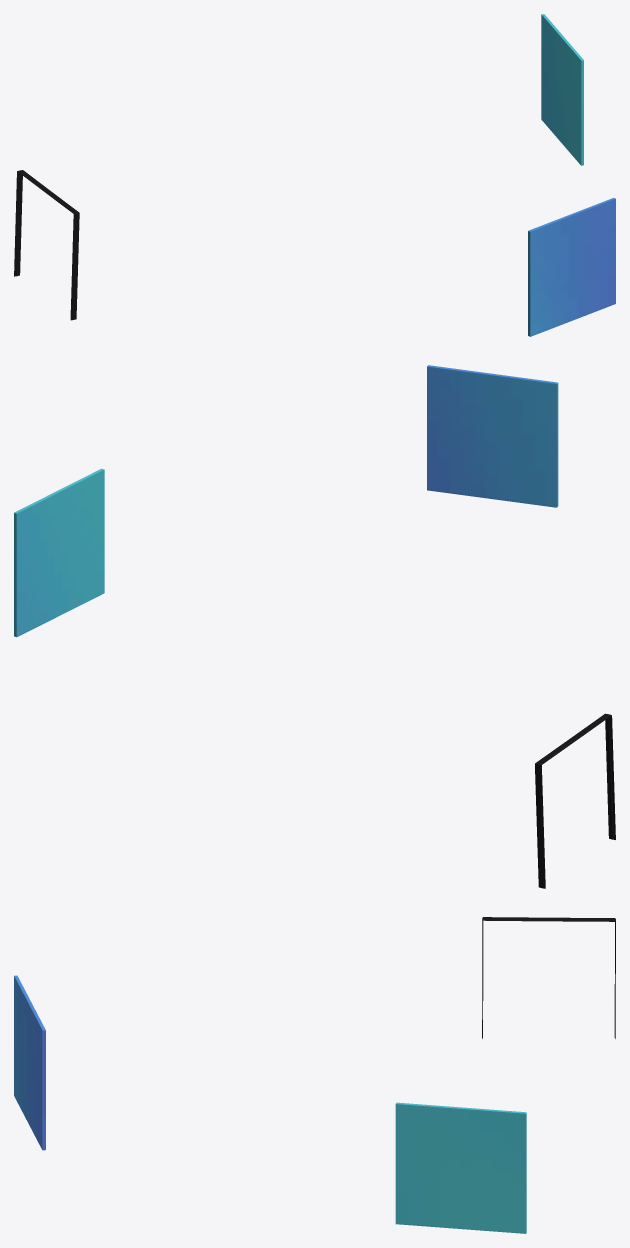
File: Prova export 1.glb
3 renders of one model, top to bottom at view 1: azimuth 30°, elevation 25°; view 2: azimuth 150°, elevation 25°; view 3: azimuth 270°, elevation 25°, orthographic. The views are drawn at different scales.
Parts seen in each view (by area): view 1: VetroDX, VetroSX, Siliconata; view 2: VetroDX, VetroSX, Siliconata; view 3: VetroSX, VetroDX, Siliconata.
Part boxes in pixels (x1,y1,x2,y2): VetroDX: (528, 198, 615, 336); VetroSX: (541, 14, 583, 165); Siliconata: (14, 170, 79, 320); VetroDX: (427, 365, 558, 507); VetroSX: (14, 468, 104, 637); Siliconata: (535, 713, 615, 888); VetroSX: (395, 1102, 526, 1233); VetroDX: (14, 975, 45, 1150); Siliconata: (482, 917, 615, 1038).
Bounding box in the file's own units: 14.69 × 5.04 × 13.61.
2 materials, 1 textured.
